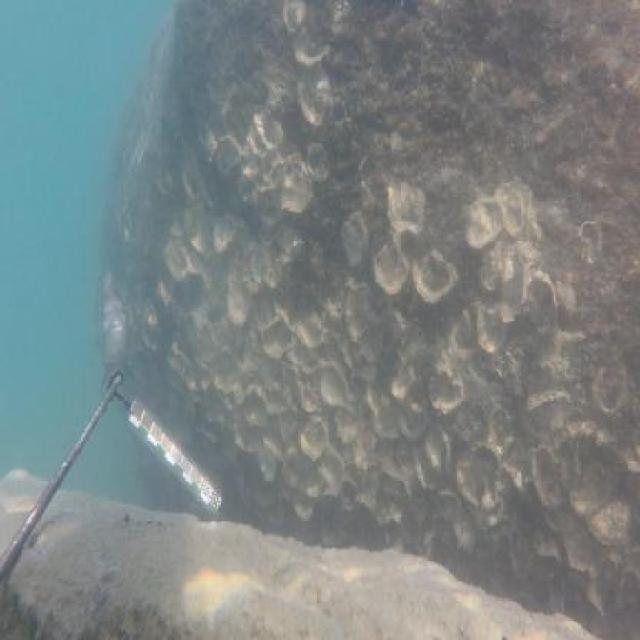acanthopagrus_palmaris: (94, 269, 132, 377)
